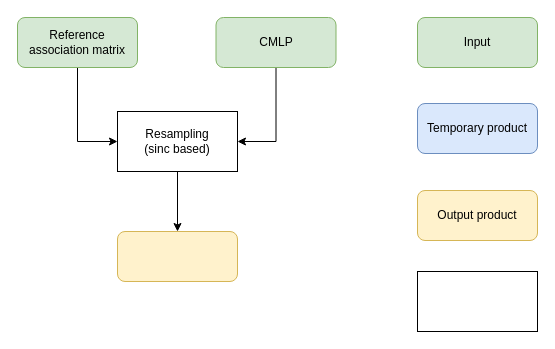
Some shapes in this 555 by 349 pixel diagram are drawn without their labels. Each missing label, with the centre of its shape:
GMLP: the point at 177,256
Processing block: the point at 477,301
